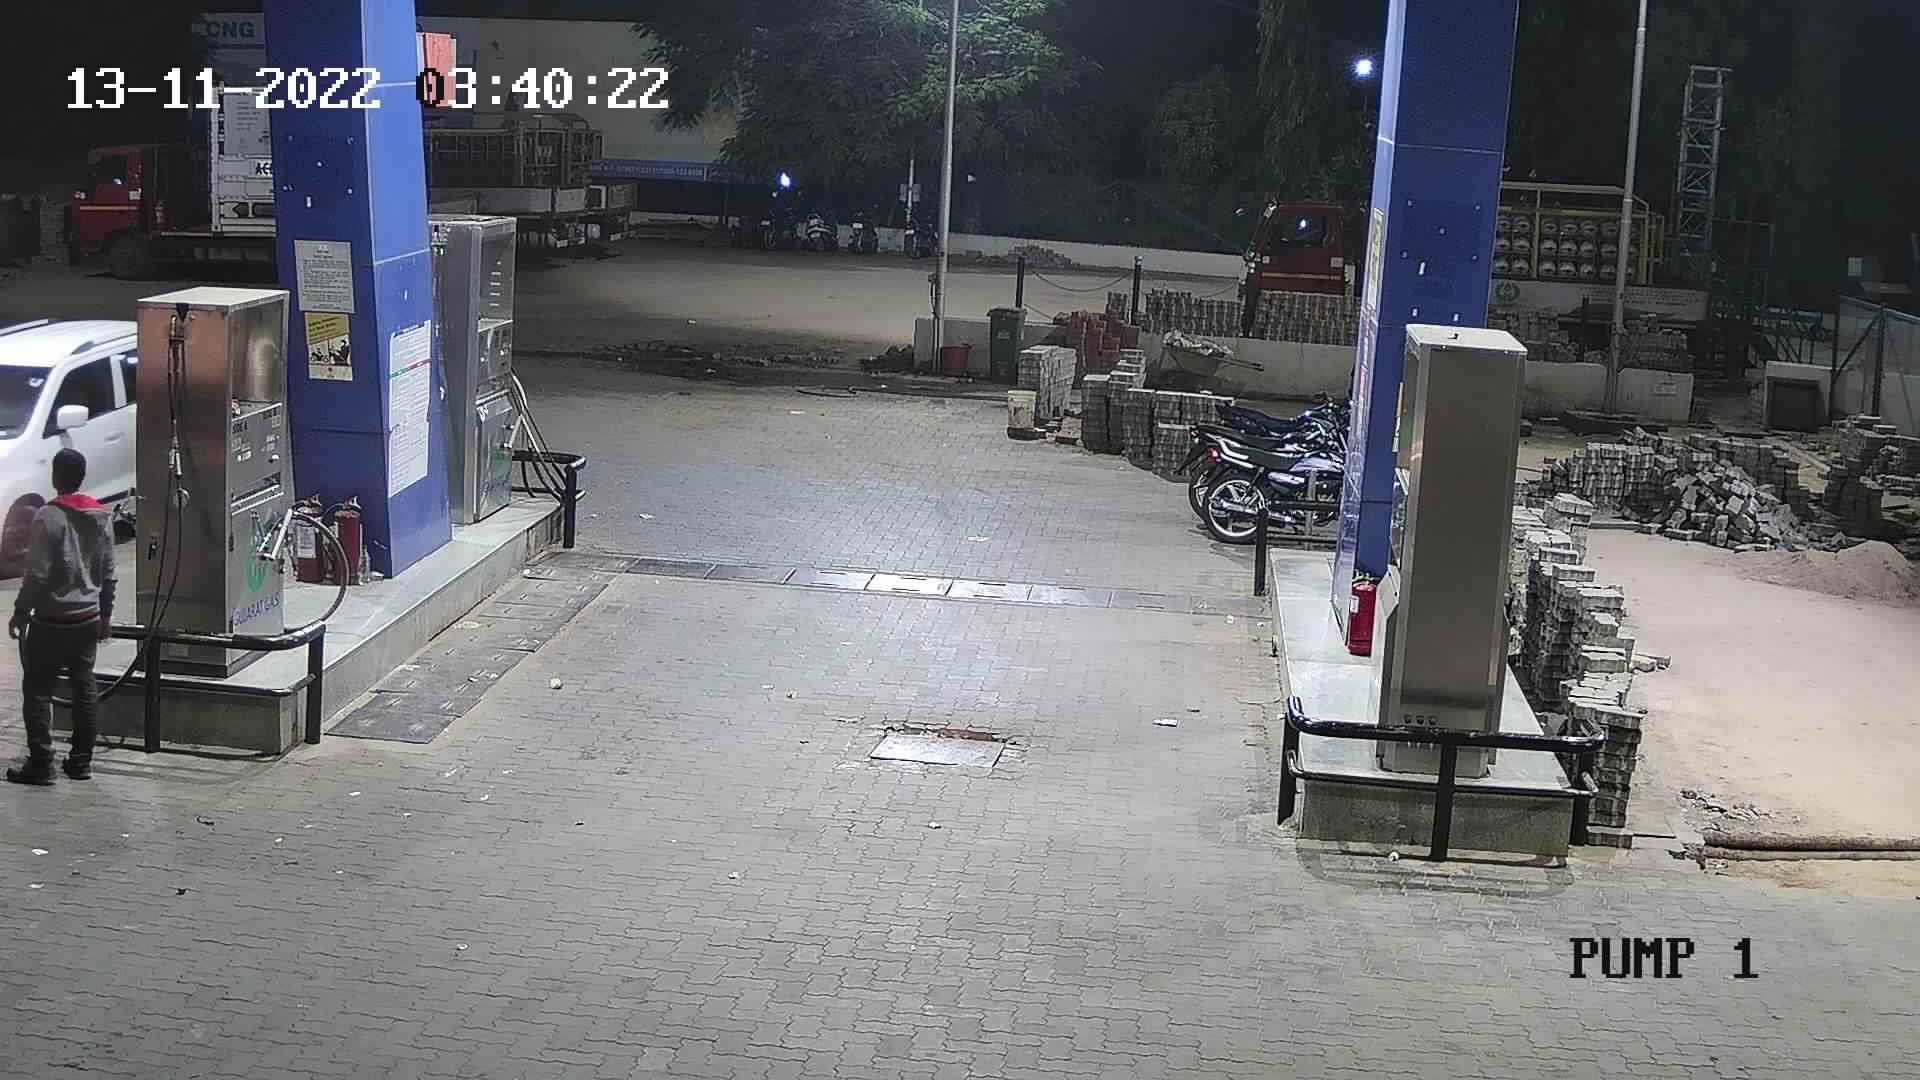Bike: (1176, 396, 1354, 563), (738, 185, 800, 253), (887, 196, 943, 272), (795, 189, 847, 262), (843, 191, 887, 264)
Car: (1, 297, 191, 571)
HMV: (53, 80, 287, 284), (406, 78, 651, 266), (1221, 179, 1375, 353)
Others: (7, 443, 125, 793)
